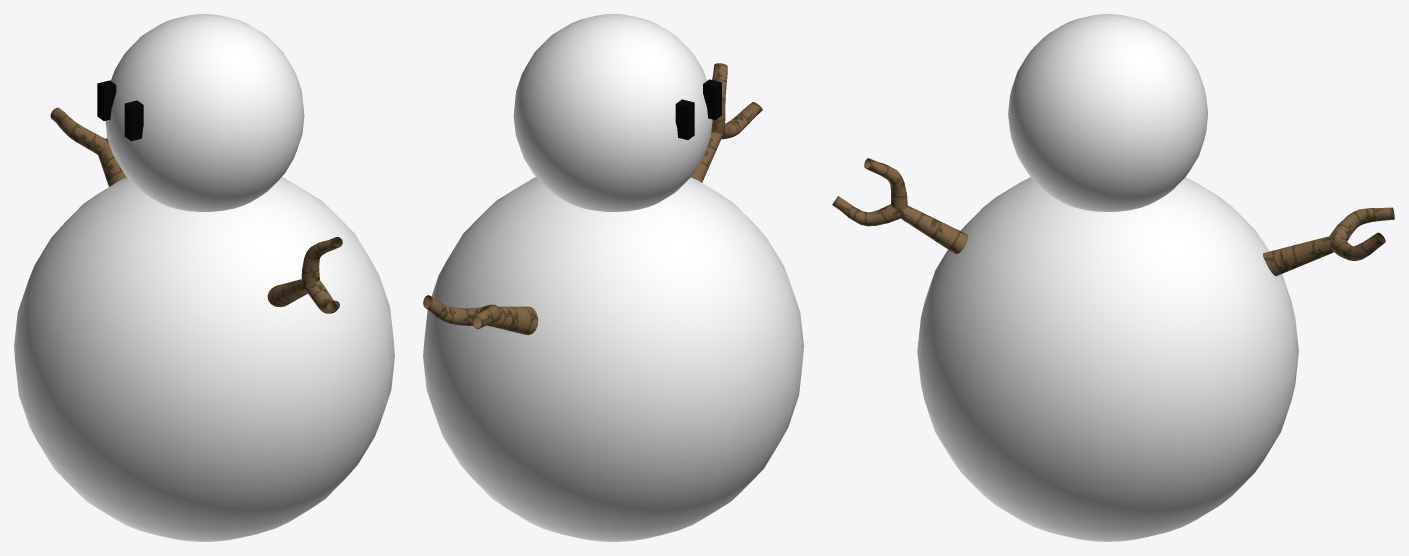
The model's file is BigSnowMan.obj.
The picture shows the model from 3 angles, left to right: view 1: azimuth 30°, elevation 25°; view 2: azimuth 150°, elevation 25°; view 3: azimuth 270°, elevation 25°; orthographic projection.
Visible parts, largest first — view 1: Sphere_Sphere.003, Sphere.001_Sphere.002, Trunk.016_Trunk.001, Trunk.015_Trunk.001, Cube.235_Cube.008, Cube.234_Cube.008; view 2: Sphere_Sphere.003, Sphere.001_Sphere.002, Trunk.015_Trunk.001, Trunk.016_Trunk.001, Cube.234_Cube.008, Cube.235_Cube.008; view 3: Sphere_Sphere.003, Sphere.001_Sphere.002, Trunk.015_Trunk.001, Trunk.016_Trunk.001.
Boxes of the visible parts, bbox=[...] form: Sphere_Sphere.003: bbox=[14, 177, 394, 541]; Sphere.001_Sphere.002: bbox=[105, 14, 304, 211]; Trunk.016_Trunk.001: bbox=[267, 237, 342, 313]; Trunk.015_Trunk.001: bbox=[50, 107, 126, 186]; Cube.235_Cube.008: bbox=[124, 100, 143, 141]; Cube.234_Cube.008: bbox=[97, 80, 116, 120]; Sphere_Sphere.003: bbox=[423, 177, 803, 541]; Sphere.001_Sphere.002: bbox=[513, 14, 712, 211]; Trunk.015_Trunk.001: bbox=[423, 295, 538, 335]; Trunk.016_Trunk.001: bbox=[691, 63, 762, 182]; Cube.234_Cube.008: bbox=[675, 99, 694, 139]; Cube.235_Cube.008: bbox=[703, 79, 721, 119]; Sphere_Sphere.003: bbox=[917, 177, 1298, 541]; Sphere.001_Sphere.002: bbox=[1008, 14, 1207, 211]; Trunk.015_Trunk.001: bbox=[1263, 207, 1394, 276]; Trunk.016_Trunk.001: bbox=[832, 158, 968, 253].
Bounding box in the file's own units: 20.92 × 30.29 × 30.83.
4 materials, 4 textured.
